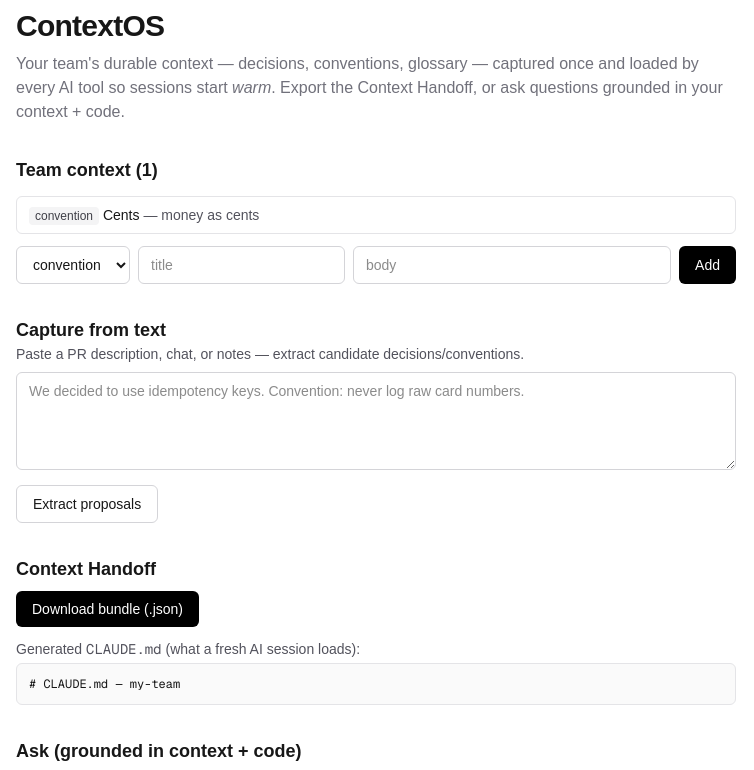
Test case: ContextOS page (component) › adds a context item through the form
Expected: the text "Cents" is shown, [103, 207, 140, 223]
Type "PG" into the field labelled "title" at (242, 265), box [138, 246, 345, 284]
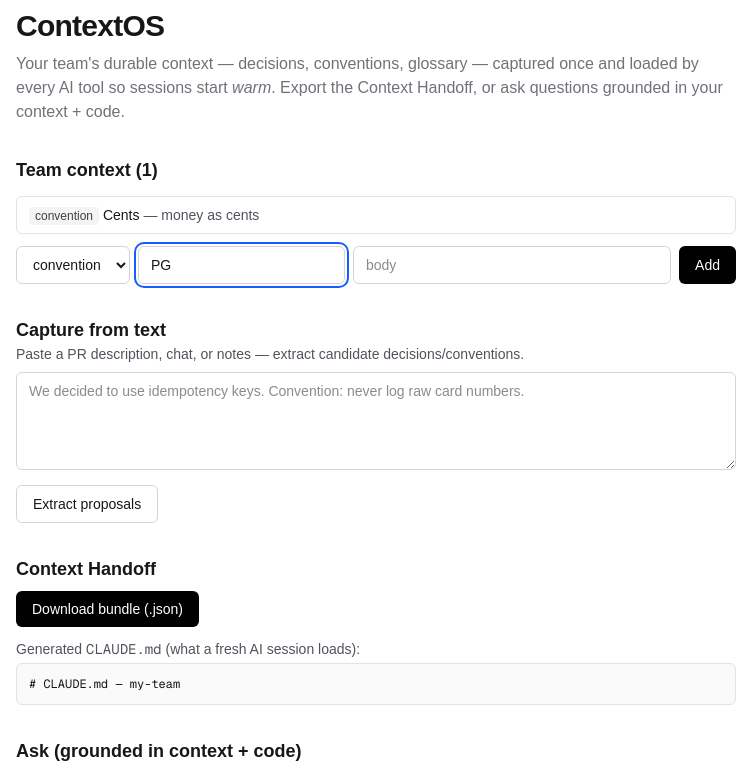
Type "use postgres" into the field labelled "body" at (512, 265), box [353, 246, 671, 284]
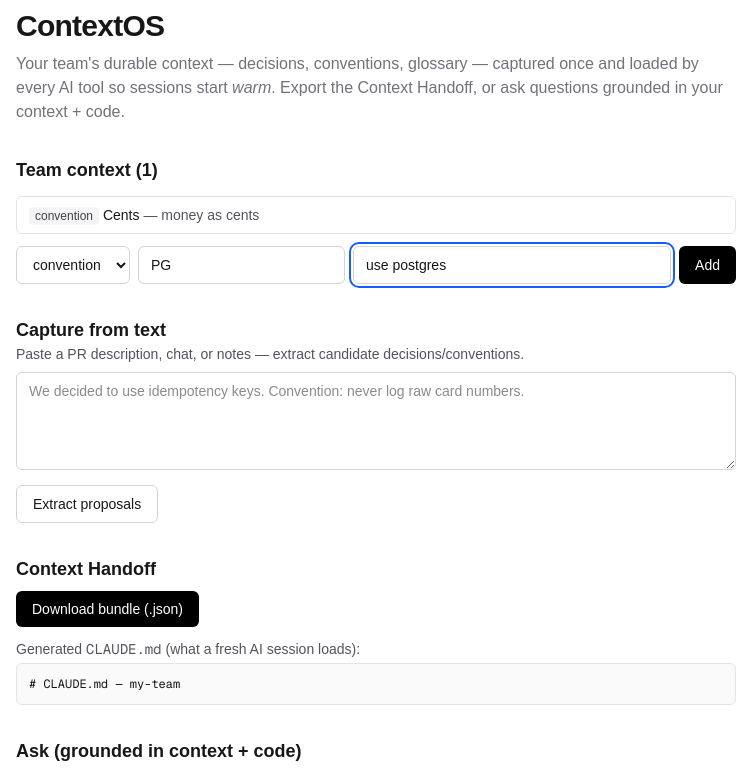
Click the button "Add" at (708, 265), box [679, 246, 736, 284]
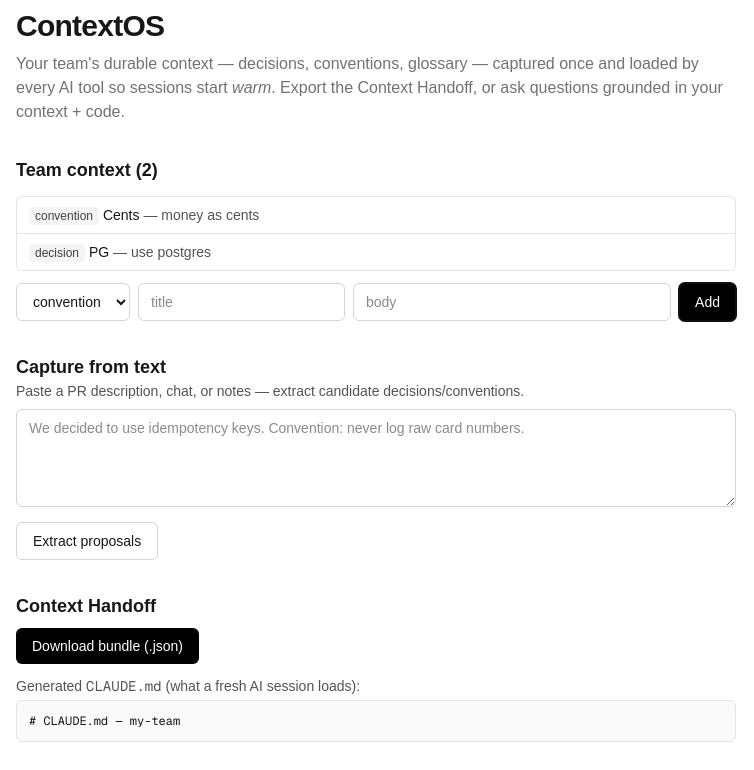
Expected: the text "PG" is shown, [89, 244, 109, 260]
